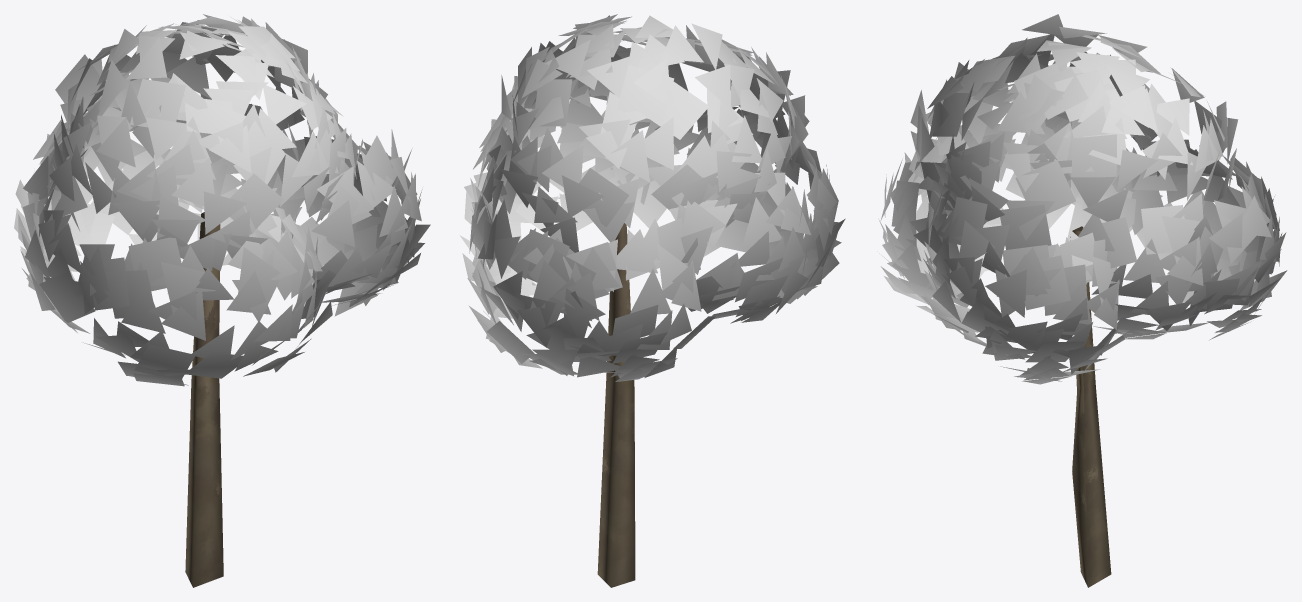
Rendered from Standar Tree Medium_LOD_2.fbx.
The picture shows the model from 3 angles, left to right: view 1: azimuth 30°, elevation 25°; view 2: azimuth 150°, elevation 25°; view 3: azimuth 270°, elevation 25°; orthographic projection. The views are drawn at different scales.
Parts seen in each view (by area): view 1: Top_Tree_Medium_LOD_2, Standar_Trunk_Medium_LOD_2; view 2: Top_Tree_Medium_LOD_2, Standar_Trunk_Medium_LOD_2; view 3: Top_Tree_Medium_LOD_2, Standar_Trunk_Medium_LOD_2.
Part boxes in pixels (<box>): Top_Tree_Medium_LOD_2: <box>14,14,430,386</box>; Standar_Trunk_Medium_LOD_2: <box>185,212,223,587</box>; Top_Tree_Medium_LOD_2: <box>459,14,845,381</box>; Standar_Trunk_Medium_LOD_2: <box>597,223,635,587</box>; Top_Tree_Medium_LOD_2: <box>877,14,1287,384</box>; Standar_Trunk_Medium_LOD_2: <box>1070,226,1111,587</box>.
Bounding box in the file's own units: 1524 × 2343 × 1633.
